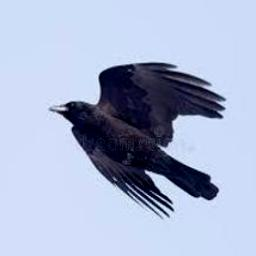Crow: (48, 60, 226, 217)
